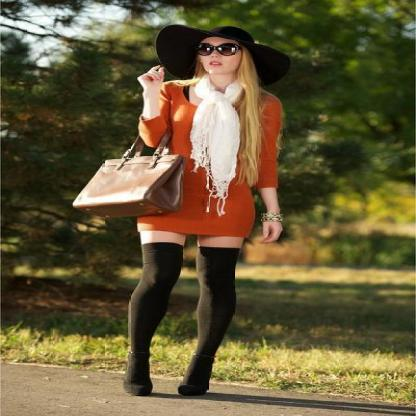bag: (73, 143, 183, 227)
hat: (150, 25, 291, 87)
jacket: (137, 82, 283, 240)
shoe: (130, 370, 211, 398)
